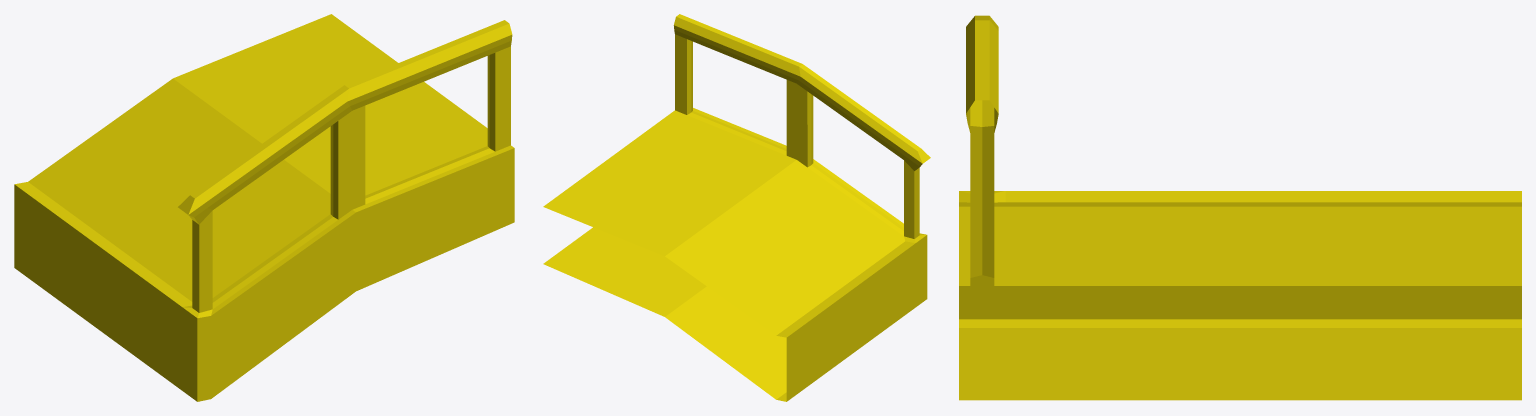
File: bridge.glb
3 renders of one model, left to right at view 1: azimuth 30°, elevation 25°; view 2: azimuth 150°, elevation 25°; view 3: azimuth 270°, elevation 25°, orthographic. The views are drawn at different scales.
Parts seen in each view (by area): view 1: Cube; view 2: Cube; view 3: Cube.
Boxes of the visible parts, x1,y1,x2,y2 form: Cube: [14, 14, 514, 401]; Cube: [543, 14, 930, 401]; Cube: [959, 15, 1521, 400].
Bounding box in the file's own units: 1.02 × 0.8974 × 1.
